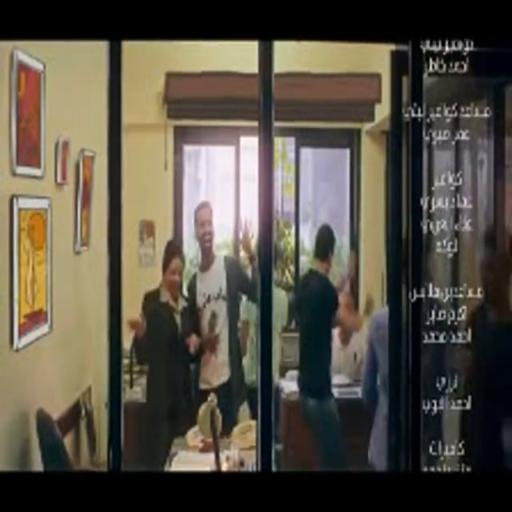nao-violencia: (120, 191, 257, 473), (275, 199, 384, 470)
